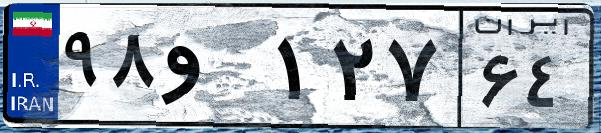1: (270, 28, 330, 110)
2: (330, 28, 385, 110)
4: (525, 38, 570, 115)
6: (475, 38, 525, 113)
7: (385, 28, 445, 110)
8: (110, 28, 158, 98)
9: (57, 26, 110, 100)
و: (158, 20, 270, 120)
